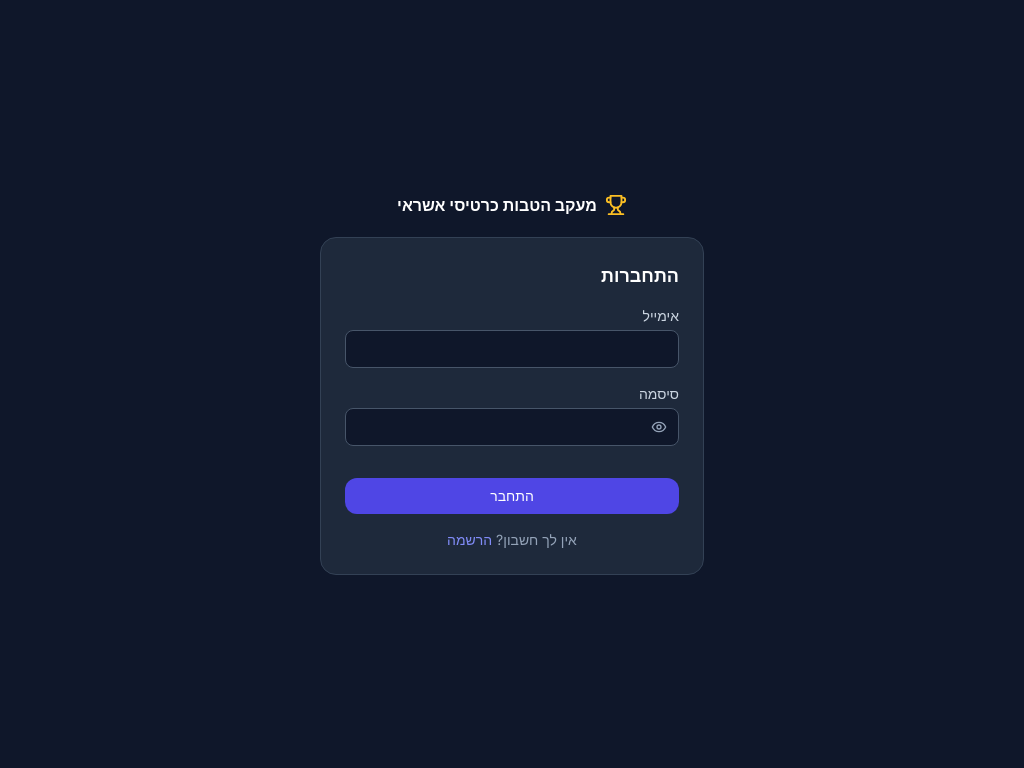
cross-tab identity › login in this tab broadcasts the new user; logout broadcasts null only after the server confirms
Expected: the heading "התחברות" is shown, [601,265,679,286]
Step 1. Type "a@example.com" into the field labelled "אימייל" → (512, 349), box [345,330,679,368]
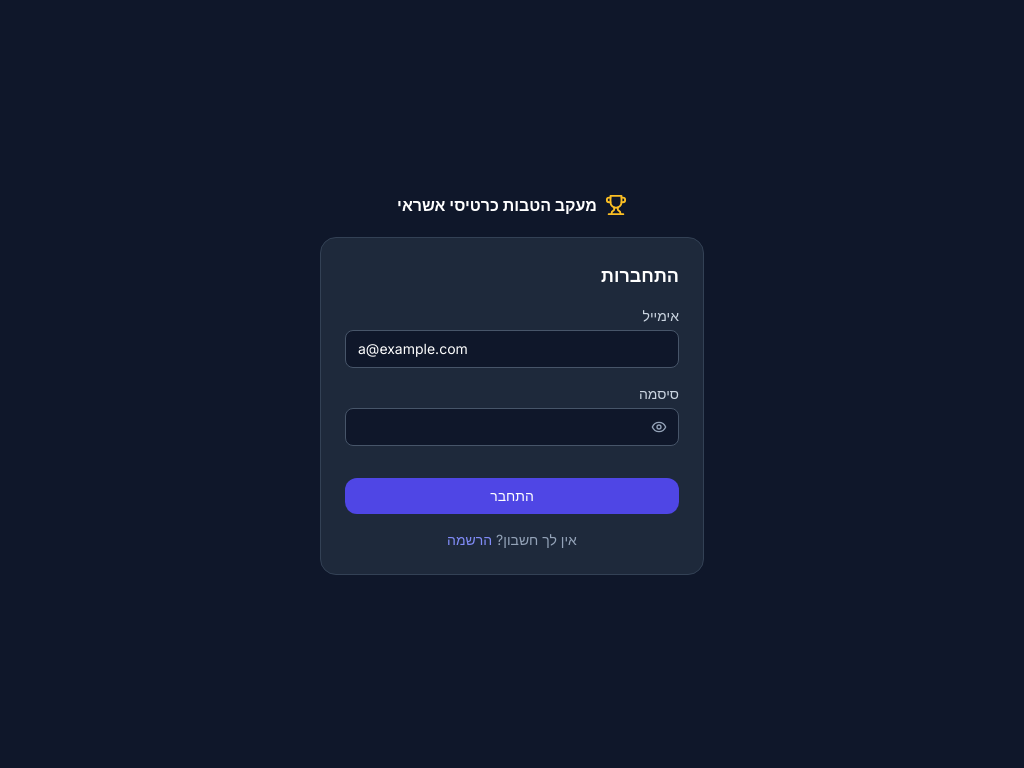
Step 2. Type "correct horse battery" into the password field labelled "סיסמה" → (512, 427), box [345,408,679,446]
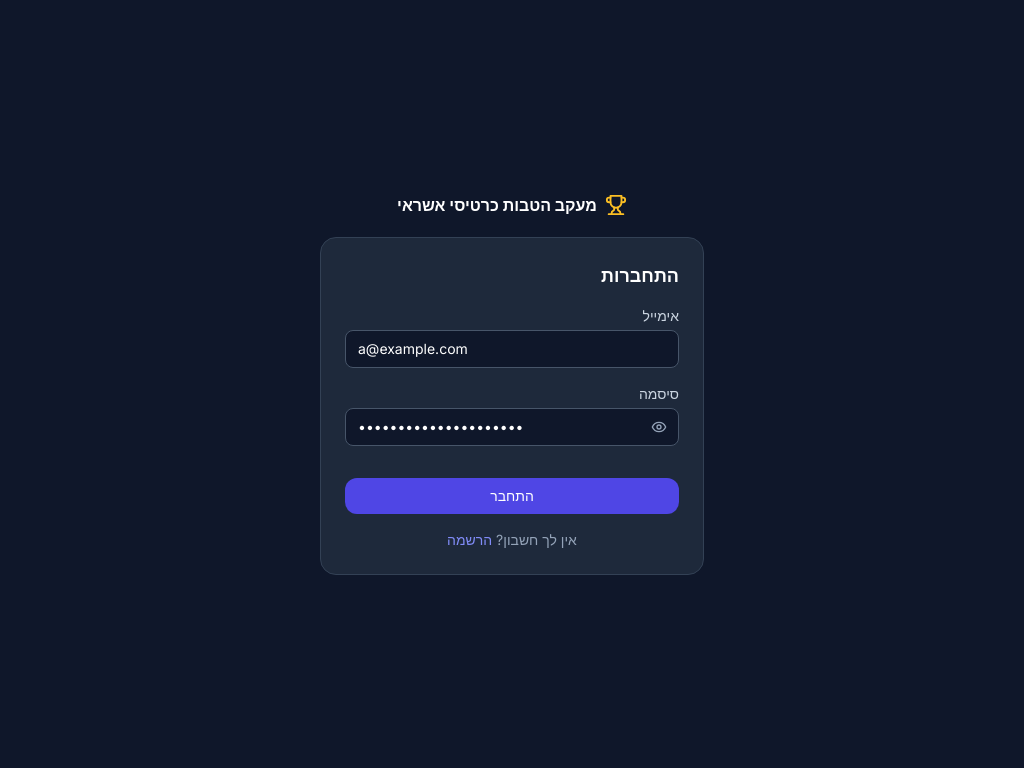
Step 3. Click the button "התחבר" → (512, 496), box [345,478,679,514]
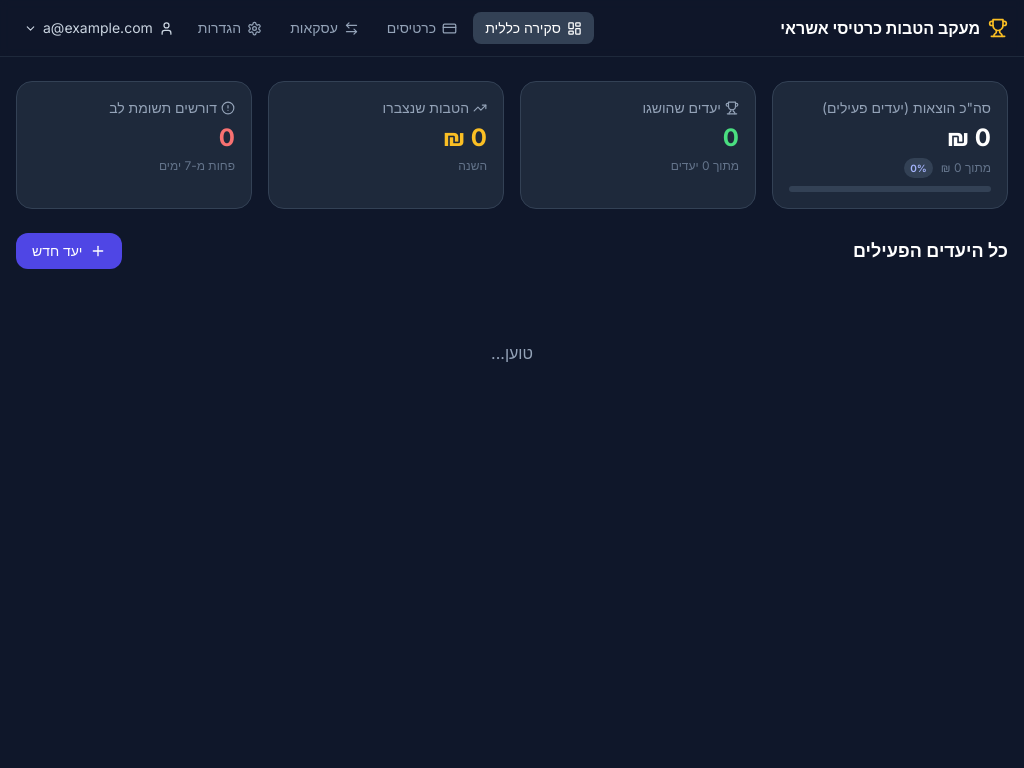
Step 4. Click the button with aria-label "תפריט משתמש" → (99, 28), box [16,12,182,44]
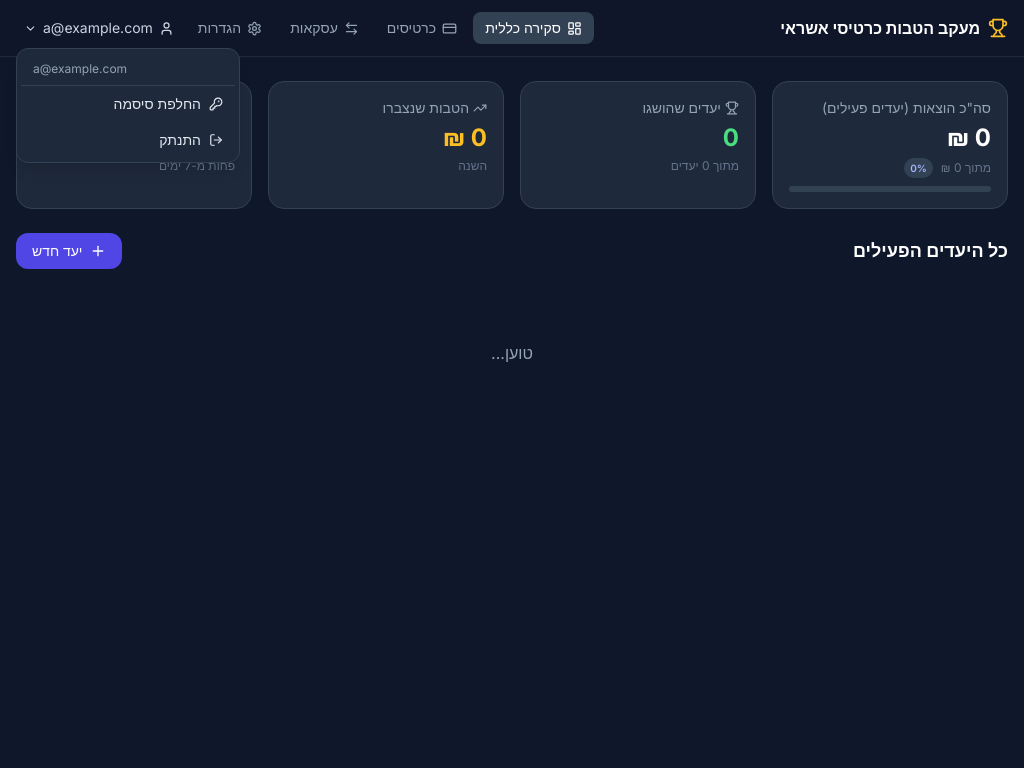
Step 5. Click the menu item "התנתק" → (128, 140), box [21,122,235,158]
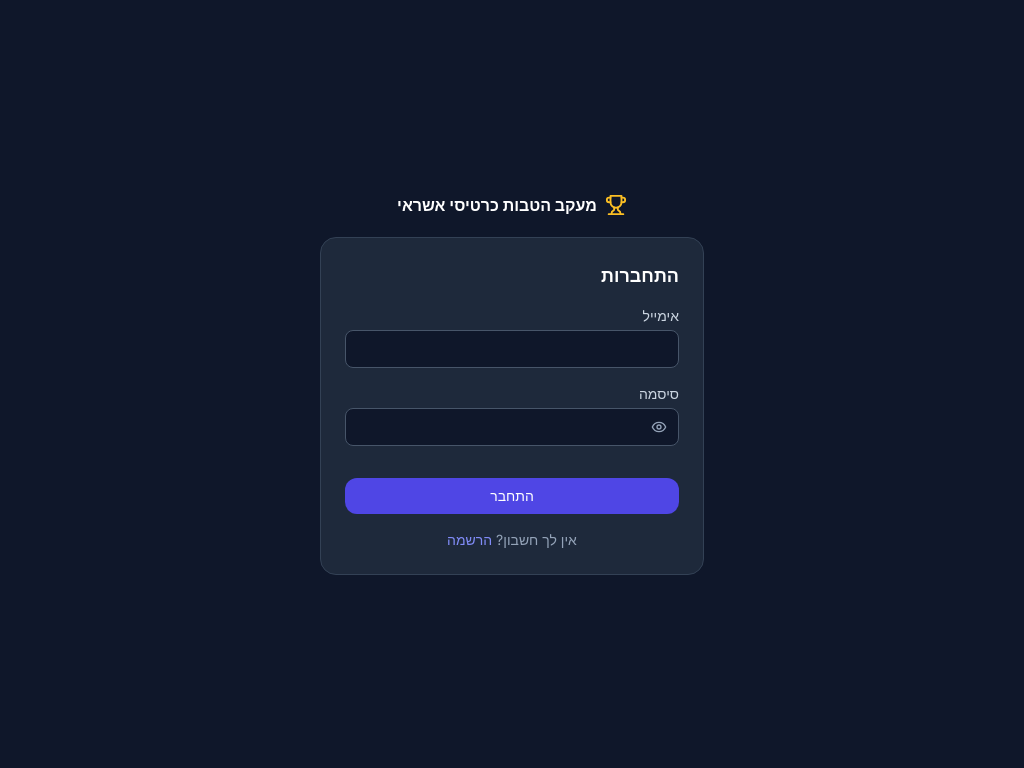
Expected: the heading "התחברות" is shown, [601,265,679,286]
